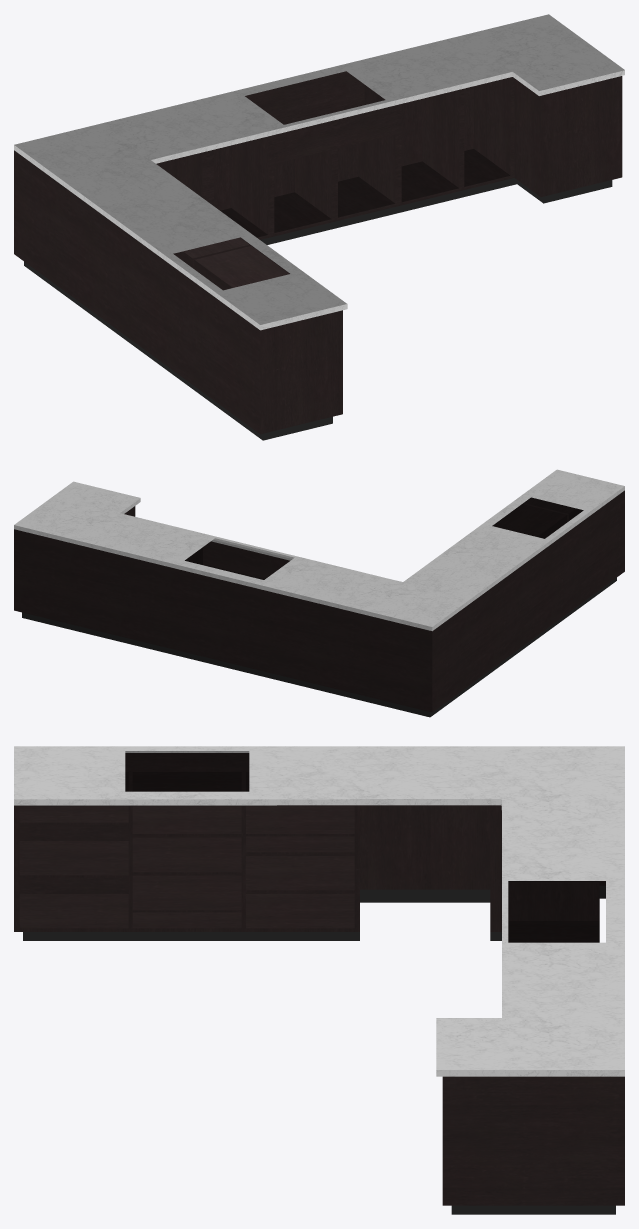
File: StandardCounterHeightWidth_0a1929d0.obj
3 views of the same model, one above another, from view 1: azimuth 30°, elevation 25°; view 2: azimuth 150°, elevation 25°; view 3: azimuth 270°, elevation 25° (orthographic). The views are drawn at different scales.
Visible parts, largest first — view 1: StandardCounterHeightWidth_0a1929d0; view 2: StandardCounterHeightWidth_0a1929d0; view 3: StandardCounterHeightWidth_0a1929d0.
Boxes of the visible parts, x1,y1,x2,y2 form: StandardCounterHeightWidth_0a1929d0: [14, 14, 624, 440]; StandardCounterHeightWidth_0a1929d0: [14, 469, 624, 717]; StandardCounterHeightWidth_0a1929d0: [14, 746, 624, 1214].
Size of the model in its own units: 4.2 by 0.899 by 3.35.
